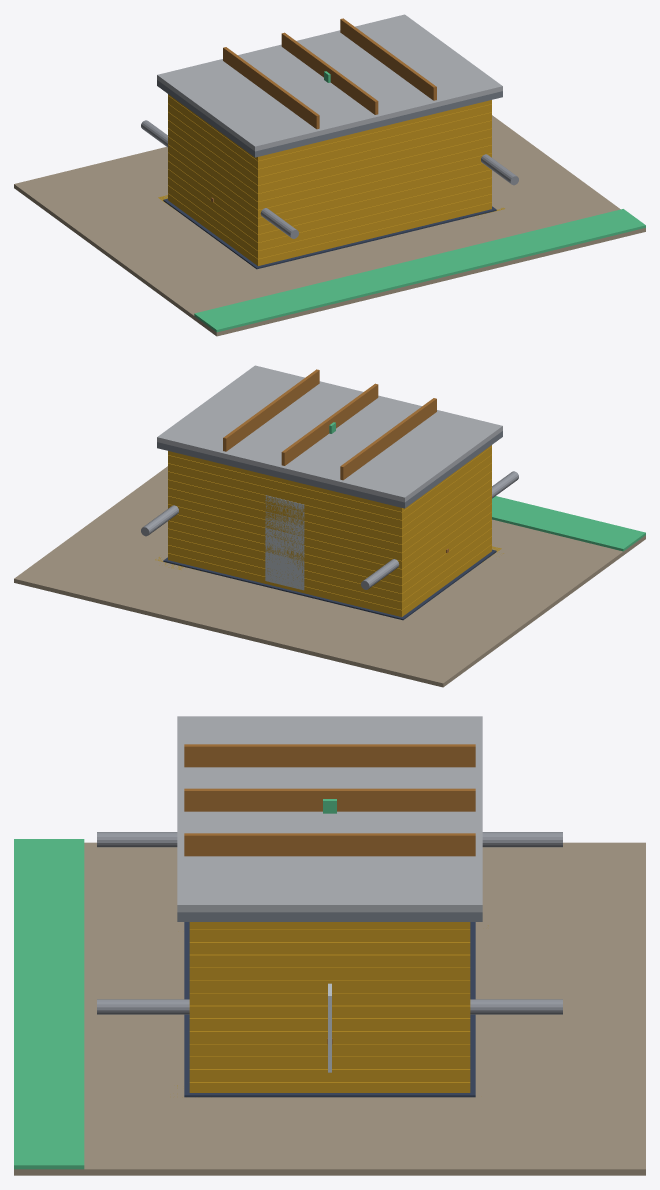
The model's file is stage_12_complete.glb.
3 views of the same model, one above another, from view 1: azimuth 30°, elevation 25°; view 2: azimuth 150°, elevation 25°; view 3: azimuth 270°, elevation 25° (orthographic). The views are drawn at different scales.
Parts seen in each view (by area): view 1: world; view 2: world; view 3: world.
Boxes of the visible parts, x1,y1,x2,y2 form: world: (14, 14, 645, 336); world: (14, 365, 645, 687); world: (14, 716, 645, 1175).
Bounding box in the file's own units: 11 × 4.2 × 9.
